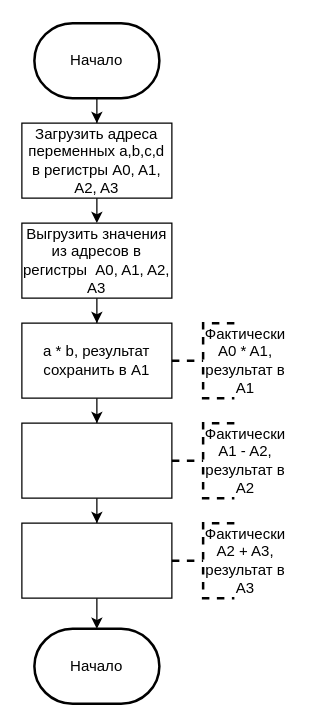
This 311x726 diagram has some shape labels left out. The shapes that lost their labels are listed below. From the top down, each one's box as (x1, y1, x2, y2) in pixels, then its label:
(21, 422, 172, 498): a * b - c, результат сохранить в A2
(21, 522, 172, 598): (a * b - c) + d, результат сохранить в A3
